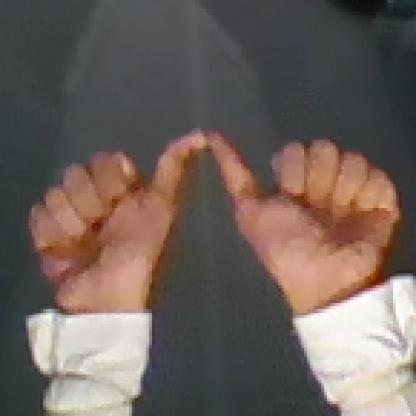A: (24, 126, 399, 312)
